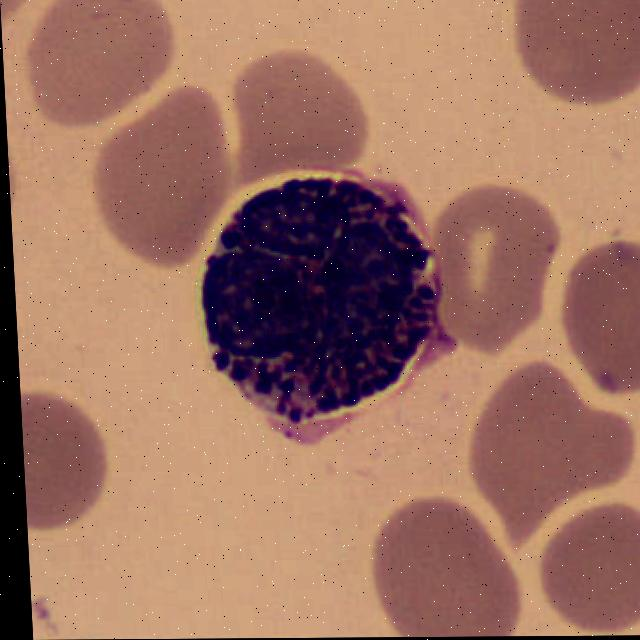basophil: (198, 167, 440, 429)
rbc: (471, 369, 634, 518), (80, 94, 228, 253), (367, 497, 523, 634), (26, 0, 186, 115), (433, 190, 557, 337), (228, 40, 363, 174), (20, 379, 123, 523), (508, 0, 640, 104), (545, 496, 640, 636), (561, 244, 640, 407), (5, 86, 34, 251)
